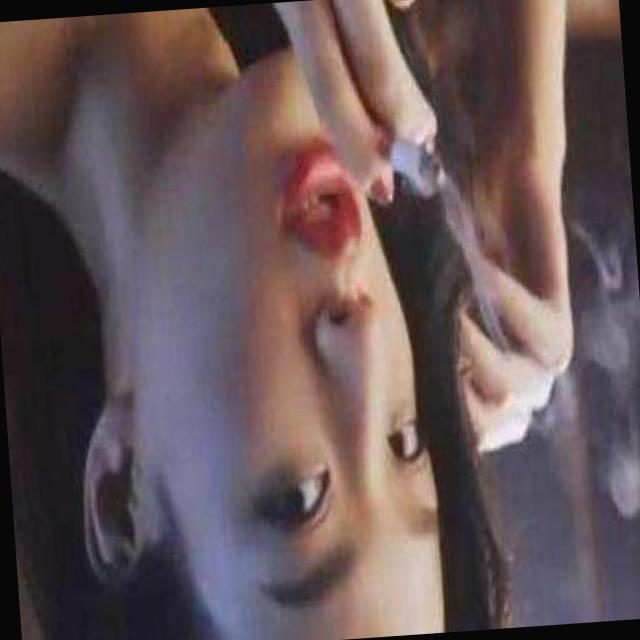smoke: (349, 106, 454, 219)
